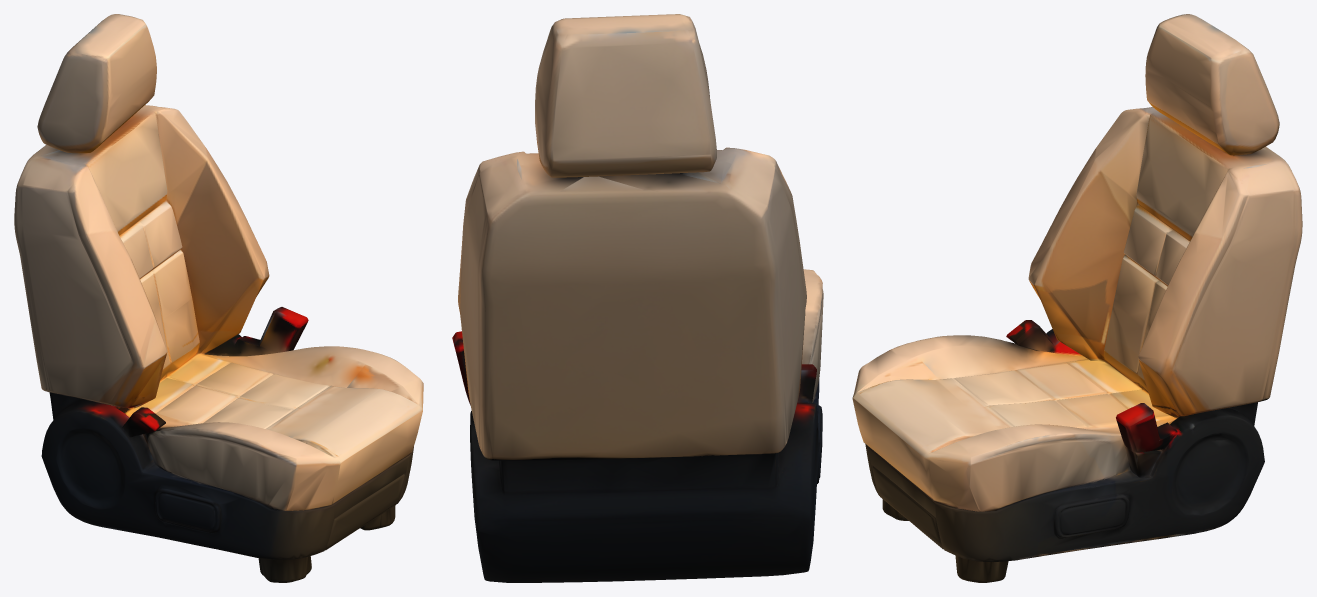
The model's file is car chair.fbx.
The picture shows the model from 3 angles, left to right: view 1: azimuth 30°, elevation 25°; view 2: azimuth 150°, elevation 25°; view 3: azimuth 270°, elevation 25°; orthographic projection. The views are drawn at different scales.
Parts seen in each view (by area): view 1: node_0.002; view 2: node_0.002; view 3: node_0.002.
Part boxes in pixels (bbox=[...]): node_0.002: bbox=[14, 14, 423, 582]; node_0.002: bbox=[452, 14, 823, 582]; node_0.002: bbox=[852, 14, 1302, 582].
Bounding box in the file's own units: 0.4306 × 0.6078 × 0.5303.
1 material, 1 textured.
